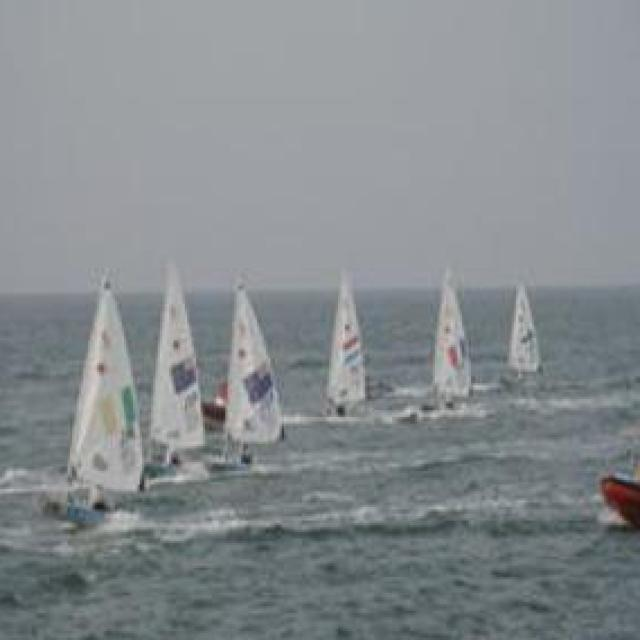sailboat: (64, 269, 152, 517), (218, 276, 292, 484), (154, 260, 208, 479), (424, 260, 474, 405), (330, 266, 372, 424), (503, 277, 543, 389)
